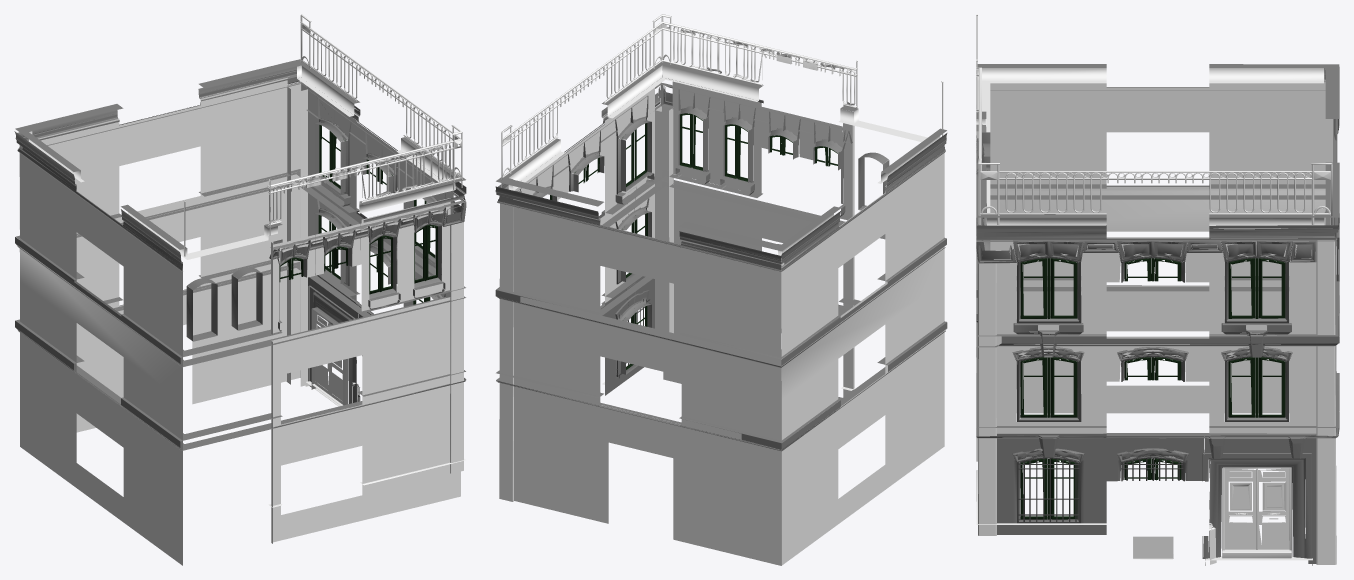
Rendered from B_BuildingCorner_LOD1.obj.
The picture shows the model from 3 angles, left to right: view 1: azimuth 30°, elevation 25°; view 2: azimuth 150°, elevation 25°; view 3: azimuth 270°, elevation 25°; orthographic projection. The views are drawn at different scales.
Parts seen in each view (by area): view 1: B_BuildingCorner_LOD1_m7, B_BuildingCorner_LOD1_m3, B_BuildingCorner_LOD1_m6, B_BuildingCorner_LOD1_m2, B_BuildingCorner_LOD1_m0, B_BuildingCorner_LOD1_m1, B_BuildingCorner_LOD1_m4; view 2: B_BuildingCorner_LOD1_m7, B_BuildingCorner_LOD1_m3, B_BuildingCorner_LOD1_m2, B_BuildingCorner_LOD1_m6, B_BuildingCorner_LOD1_m0, B_BuildingCorner_LOD1_m1; view 3: B_BuildingCorner_LOD1_m7, B_BuildingCorner_LOD1_m3, B_BuildingCorner_LOD1_m6, B_BuildingCorner_LOD1_m1, B_BuildingCorner_LOD1_m0, B_BuildingCorner_LOD1_m2, B_BuildingCorner_LOD1_m4, B_BuildingCorner_LOD1_m5.
Part boxes in pixels (x1,y1,x2,y2): B_BuildingCorner_LOD1_m7: (19, 77, 460, 565); B_BuildingCorner_LOD1_m3: (14, 59, 466, 450); B_BuildingCorner_LOD1_m6: (286, 83, 463, 473); B_BuildingCorner_LOD1_m2: (183, 14, 462, 256); B_BuildingCorner_LOD1_m0: (29, 65, 465, 507); B_BuildingCorner_LOD1_m1: (279, 125, 437, 304); B_BuildingCorner_LOD1_m4: (315, 308, 343, 404); B_BuildingCorner_LOD1_m7: (513, 81, 944, 565); B_BuildingCorner_LOD1_m3: (495, 60, 947, 451); B_BuildingCorner_LOD1_m2: (501, 14, 943, 187); B_BuildingCorner_LOD1_m6: (499, 104, 673, 501); B_BuildingCorner_LOD1_m0: (508, 65, 940, 390); B_BuildingCorner_LOD1_m1: (550, 113, 839, 369); B_BuildingCorner_LOD1_m7: (976, 80, 1332, 461); B_BuildingCorner_LOD1_m3: (976, 64, 1339, 563); B_BuildingCorner_LOD1_m6: (978, 240, 1336, 564); B_BuildingCorner_LOD1_m1: (1020, 258, 1285, 519); B_BuildingCorner_LOD1_m0: (976, 68, 1324, 565); B_BuildingCorner_LOD1_m2: (976, 14, 1332, 224); B_BuildingCorner_LOD1_m4: (1222, 467, 1291, 550); B_BuildingCorner_LOD1_m5: (1017, 257, 1288, 523).
Bounding box in the file's own units: 10.6 × 12.92 × 10.6.
